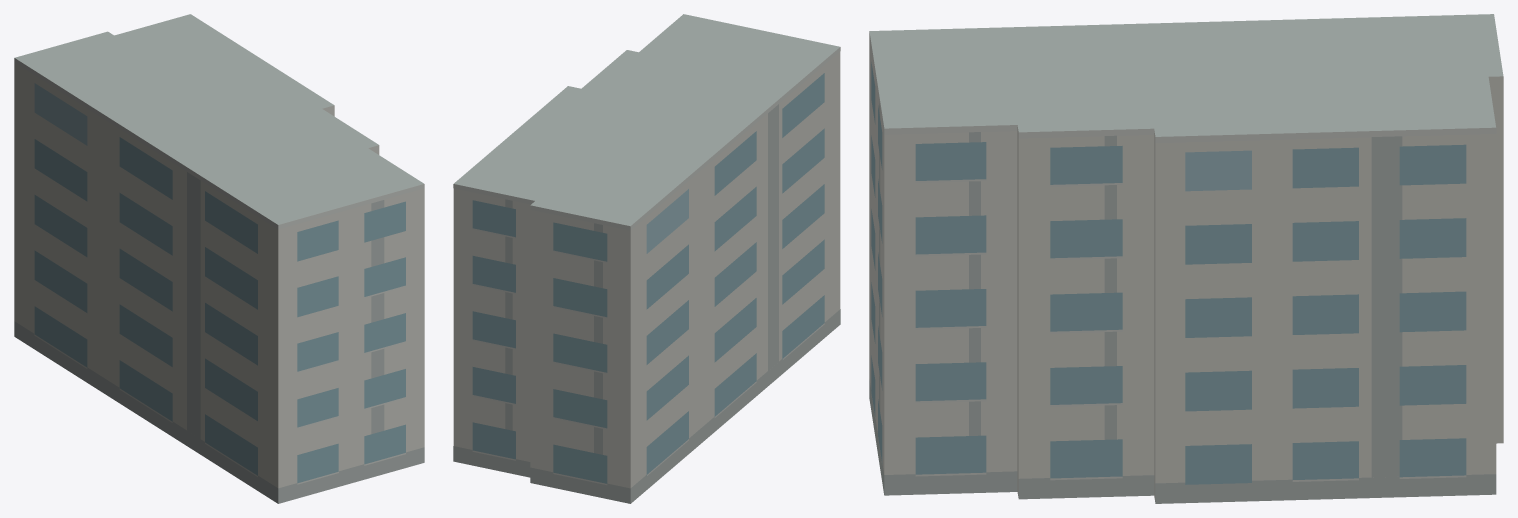
Rendered from residential-54d0261a-8d8f-4ba3-84db-00b549cd45fb.glb.
3 renders of one model, left to right at view 1: azimuth 30°, elevation 25°; view 2: azimuth 150°, elevation 25°; view 3: azimuth 270°, elevation 25°, orthographic. The views are drawn at different scales.
Parts seen in each view (by area): view 1: residential-54d0261a-8d8f-4ba3-84db-00b549cd45fb.tmp; view 2: residential-54d0261a-8d8f-4ba3-84db-00b549cd45fb.tmp; view 3: residential-54d0261a-8d8f-4ba3-84db-00b549cd45fb.tmp.
Boxes of the visible parts, x1,y1,x2,y2 form: residential-54d0261a-8d8f-4ba3-84db-00b549cd45fb.tmp: (14, 14, 424, 503); residential-54d0261a-8d8f-4ba3-84db-00b549cd45fb.tmp: (453, 14, 840, 503); residential-54d0261a-8d8f-4ba3-84db-00b549cd45fb.tmp: (869, 14, 1503, 503).
Bounding box in the file's own units: 10.64 × 14.8 × 23.19.
